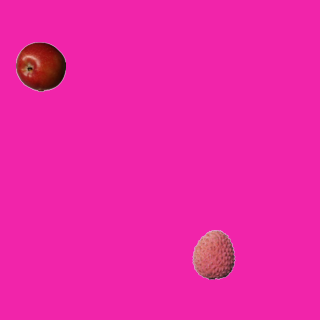Apple Braeburn: (15, 41, 65, 91)
Lychee: (188, 229, 238, 279)
